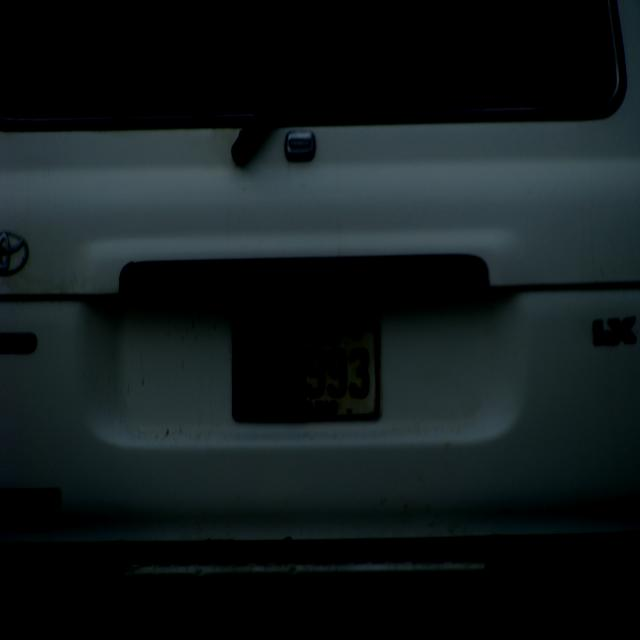placa: (229, 320, 382, 424)
